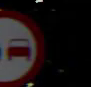No overtake: (0, 6, 45, 82)
